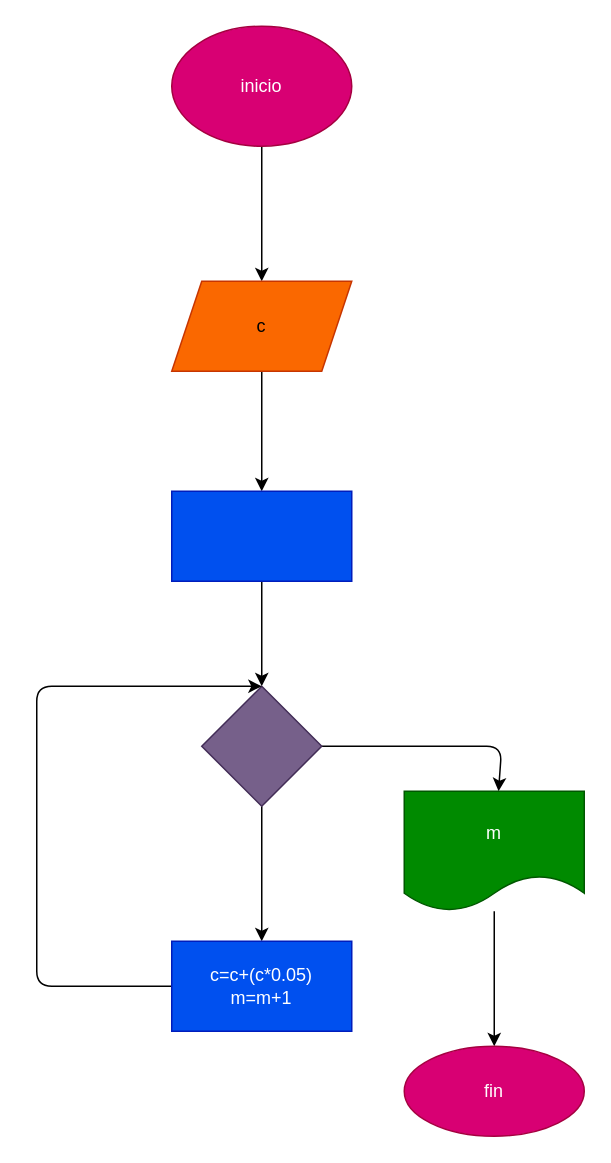
This 611x1163 diagram has some shape labels left out. The shapes that lost their labels are listed below. From the top down, each one's box as (x1, y1, x2, y2) in pixels, then its label:
(170, 490, 352, 581): m=0 cf=2*c
(200, 685, 322, 806): c<=2*c
